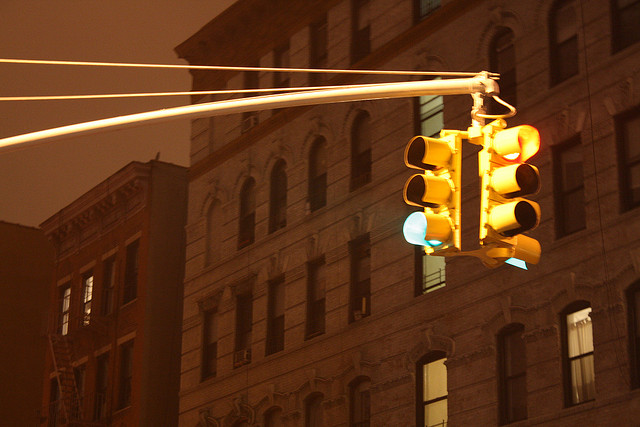Traffic light: (402, 129, 479, 264), (483, 124, 552, 271)
